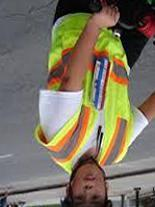Vest: (40, 16, 129, 162)
